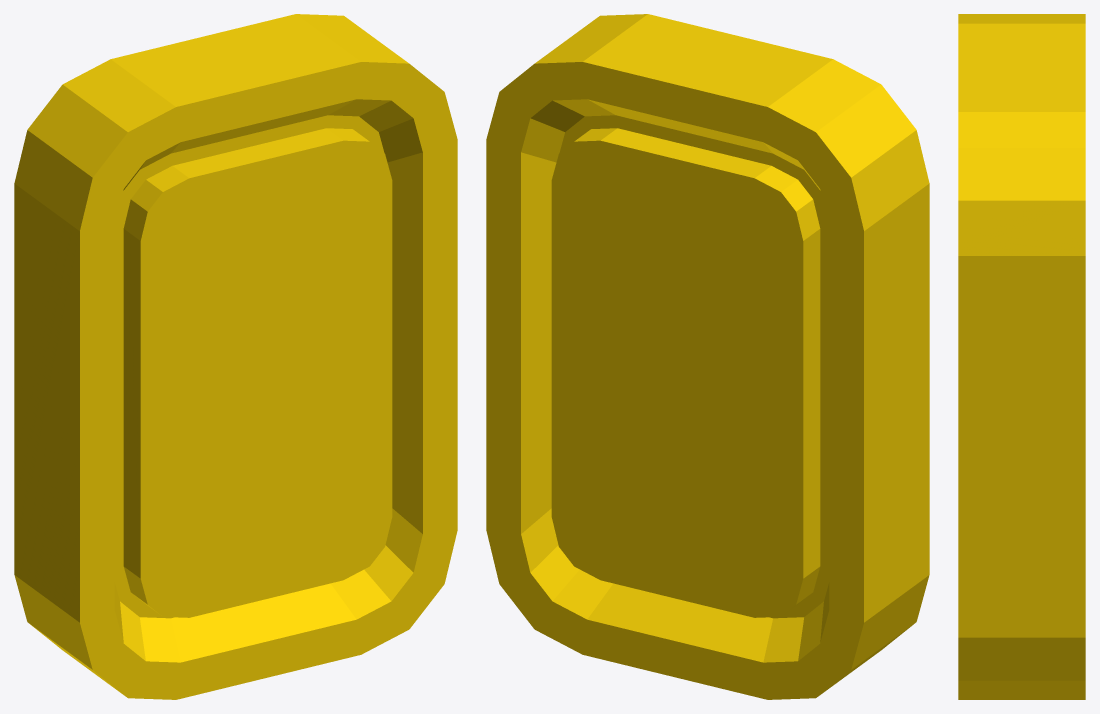
The model's file is Coin 1.fbx.
3 views of the same model, side by side, from view 1: azimuth 30°, elevation 25°; view 2: azimuth 150°, elevation 25°; view 3: azimuth 270°, elevation 25° (orthographic). The views are drawn at different scales.
Parts seen in each view (by area): view 1: Cube; view 2: Cube; view 3: Cube.
Part boxes in pixels (x1=…): Cube: x1=14, y1=14, x2=457, y2=699; Cube: x1=486, y1=14, x2=929, y2=699; Cube: x1=958, y1=14, x2=1085, y2=699.
Bounding box in the file's own units: 1.07 × 1.6 × 0.3195.
